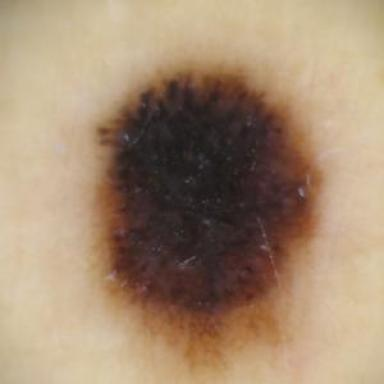Melanoma: (97, 67, 323, 366)
